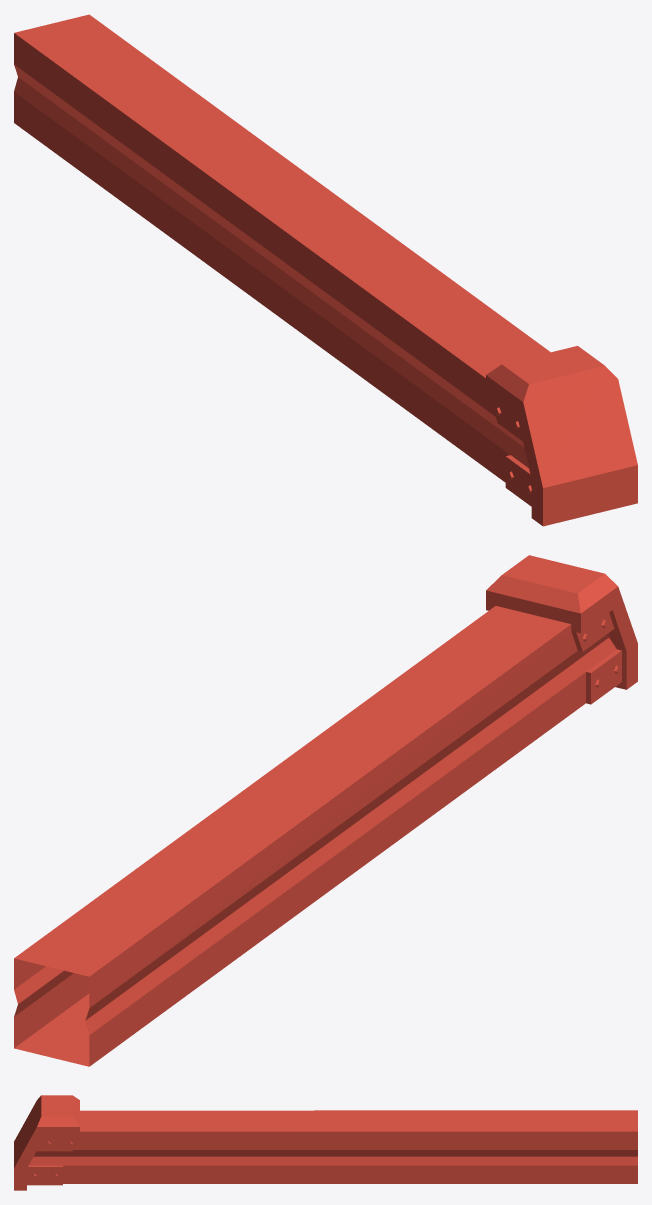
Rendered from SM_Telehandler_Arm_C.fbx.
3 renders of one model, top to bottom at view 1: azimuth 30°, elevation 25°; view 2: azimuth 150°, elevation 25°; view 3: azimuth 270°, elevation 25°, orthographic. The views are drawn at different scales.
Visible parts, largest first — view 1: SM_Telehandler_Arm_C; view 2: SM_Telehandler_Arm_C; view 3: SM_Telehandler_Arm_C.
Boxes of the visible parts, x1,y1,x2,y2 form: SM_Telehandler_Arm_C: [14, 14, 637, 526]; SM_Telehandler_Arm_C: [14, 555, 637, 1066]; SM_Telehandler_Arm_C: [14, 1095, 637, 1190].
Bounding box in the file's own units: 411 × 41.8 × 51.67.
